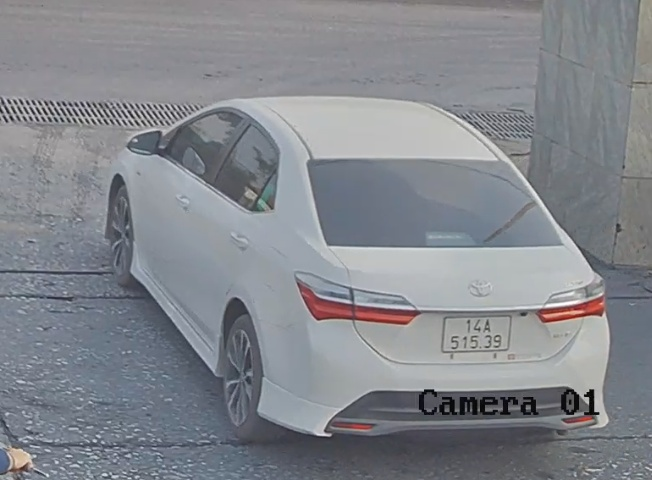vehicle plate: (438, 312, 512, 352)
